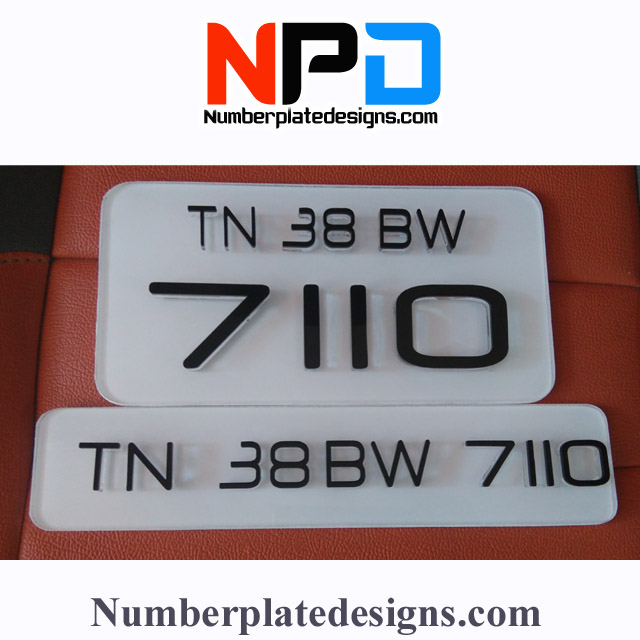number_plate: (95, 178, 555, 407), (29, 405, 621, 531)
